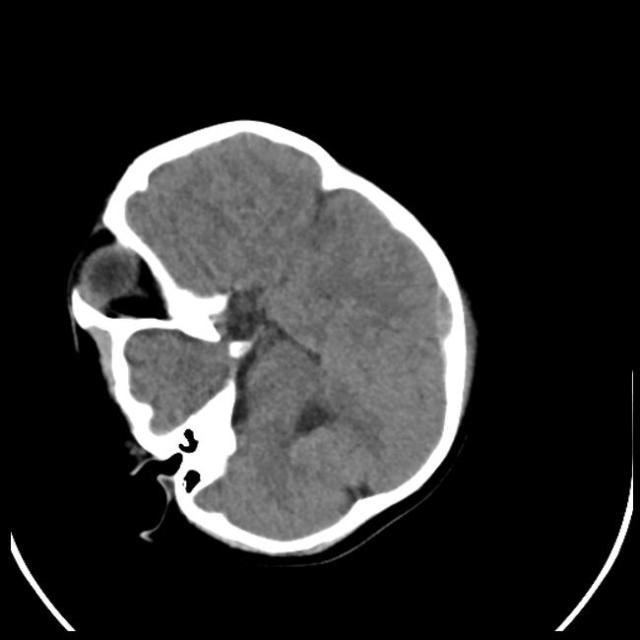lesion: (62, 116, 480, 562)
